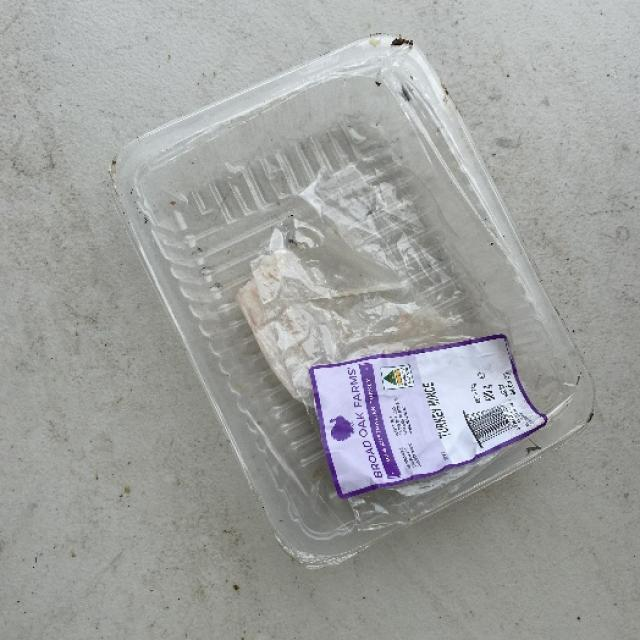inorganic: (127, 32, 600, 564)
